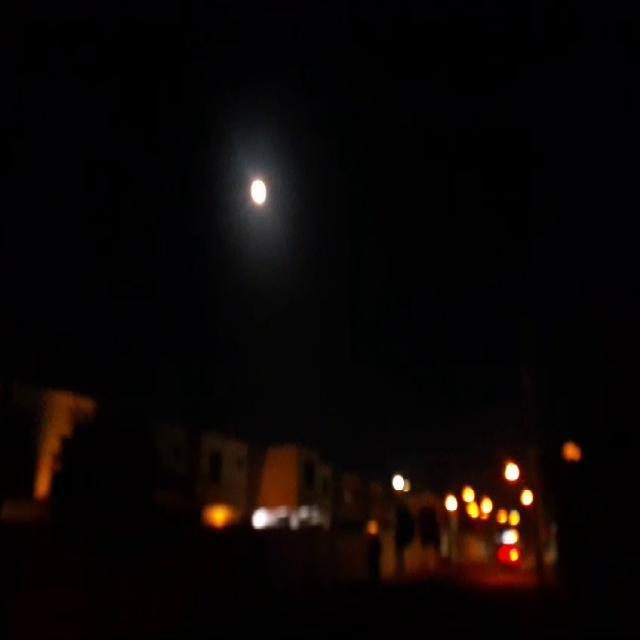moon: (232, 164, 252, 198)
